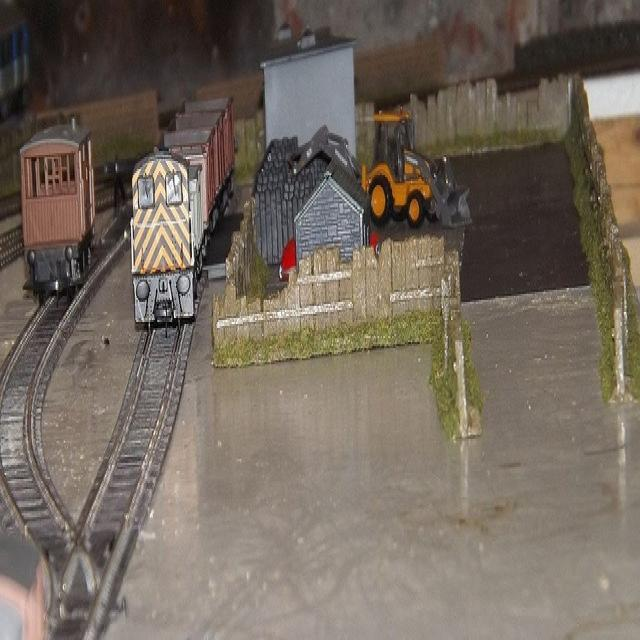truck: (361, 106, 468, 230)
